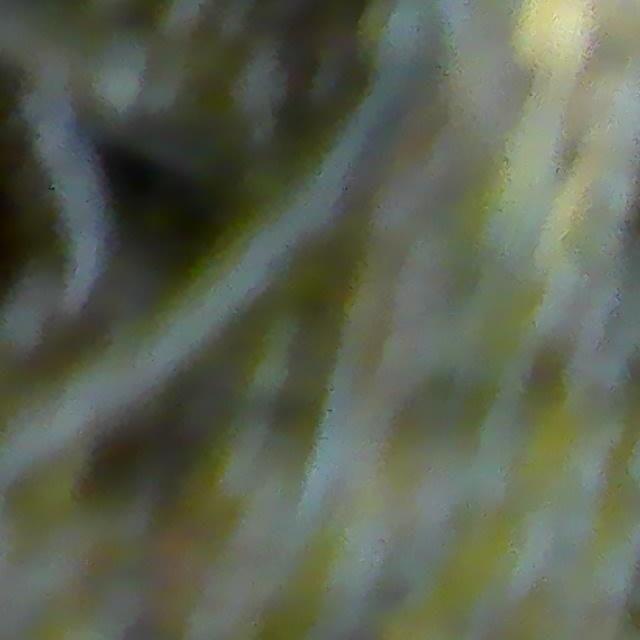SeaGrape: (83, 34, 155, 116)
